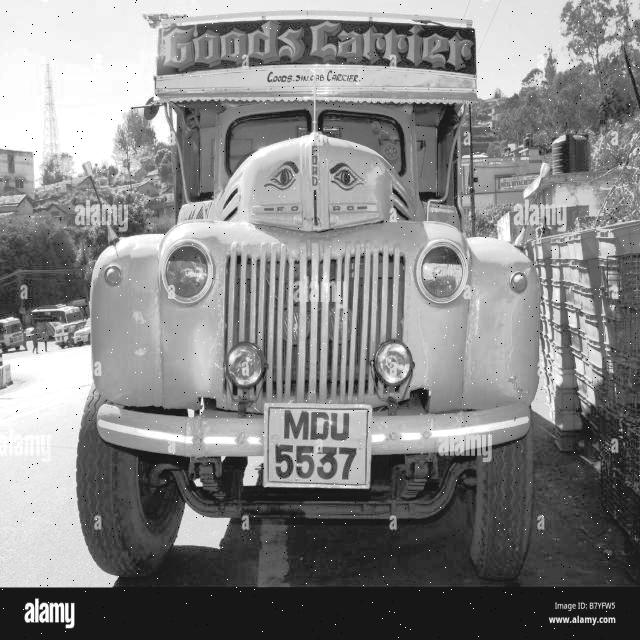HCV: (42, 11, 570, 587)
